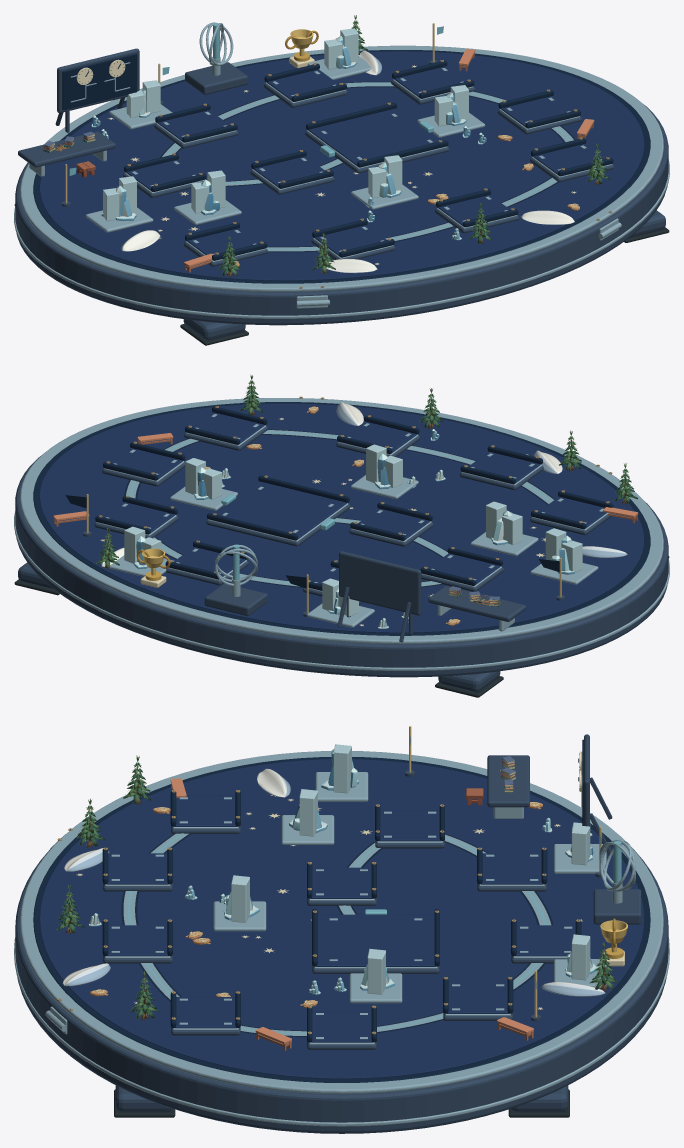
The model's file is hibern.glb.
The picture shows the model from 3 angles, top to bottom: view 1: azimuth 30°, elevation 25°; view 2: azimuth 150°, elevation 25°; view 3: azimuth 270°, elevation 25°; orthographic projection. The views are drawn at different scales.
Parts seen in each view (by area): view 1: Static tournament table • material batches; view 2: Static tournament table • material batches; view 3: Static tournament table • material batches.
Part boxes in pixels (x1,y1,x2,y2): Static tournament table • material batches: [14, 15, 669, 345]; Static tournament table • material batches: [14, 374, 669, 697]; Static tournament table • material batches: [14, 726, 669, 1133].
Size of the model in its own units: 24.1 by 4.67 by 19.28.
